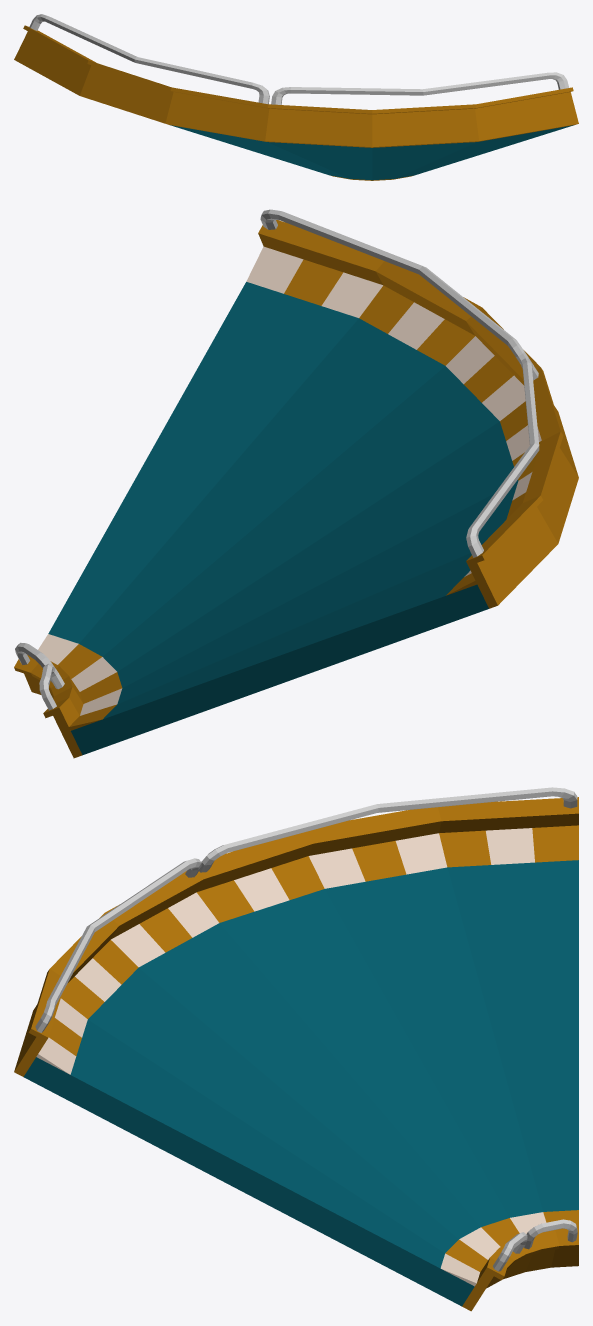
Rendered from bankedRight-90-30_s.FBX.
3 views of the same model, one above another, from view 1: azimuth 30°, elevation 25°; view 2: azimuth 150°, elevation 25°; view 3: azimuth 270°, elevation 25° (orthographic). The views are drawn at different scales.
Parts seen in each view (by area): view 1: wall_l, bankedRight-90-30_s; view 2: bankedRight-90-30_s, wall_l, curbs_l, curbs_r, wall_r; view 3: bankedRight-90-30_s, curbs_l, wall_l, wall_r, curbs_r.
Boxes of the visible parts, <box> form: wall_l: <box>14,14,578,147</box>; bankedRight-90-30_s: <box>170,125,574,180</box>; bankedRight-90-30_s: <box>48,282,518,755</box>; wall_l: <box>258,209,578,608</box>; curbs_l: <box>246,246,541,595</box>; curbs_r: <box>38,634,122,730</box>; wall_r: <box>14,642,83,758</box>; bankedRight-90-30_s: <box>23,860,578,1306</box>; curbs_l: <box>36,825,578,1074</box>; wall_l: <box>14,787,578,1076</box>; wall_r: <box>462,1219,578,1311</box>; curbs_r: <box>440,1210,578,1286</box>.
Size of what is drawn, in the model's own units: 214 by 126 by 214.
